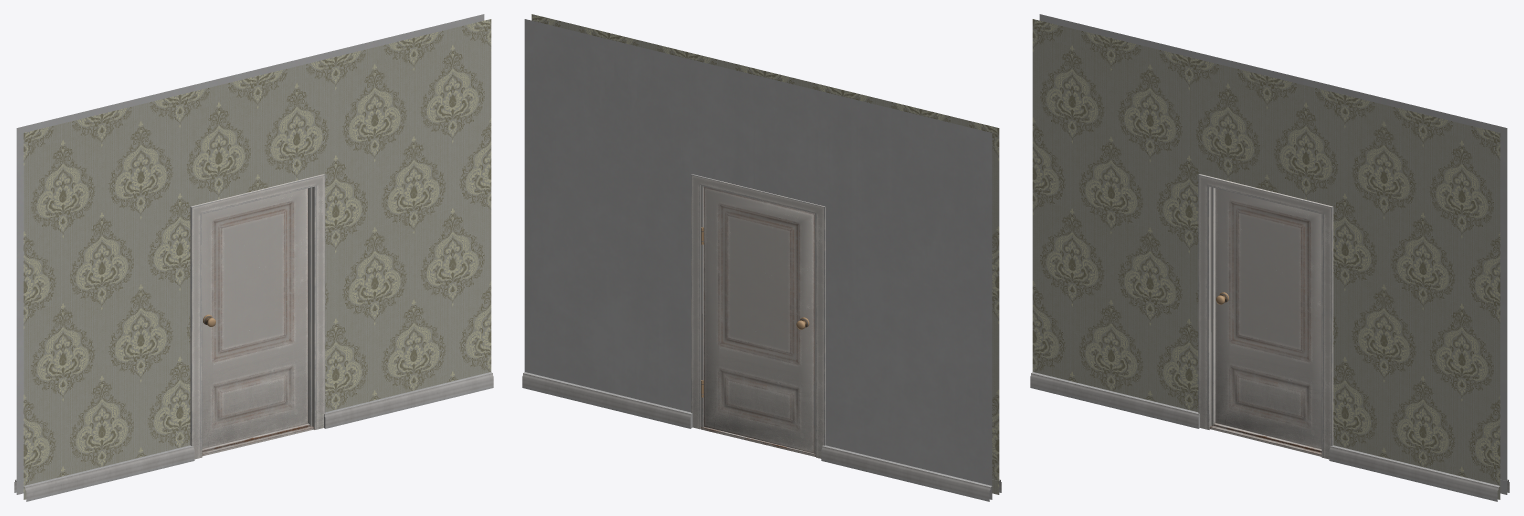
Rendered from Inner_Wall_Door_03.fbx.
The picture shows the model from 3 angles, left to right: view 1: azimuth 30°, elevation 25°; view 2: azimuth 150°, elevation 25°; view 3: azimuth 330°, elevation 25°; orthographic projection.
Parts seen in each view (by area): view 1: Inner_Wall_Door_03_LOD0, Inner_Door_03_LOD0; view 2: Inner_Wall_Door_03_LOD0, Inner_Door_03_LOD0; view 3: Inner_Wall_Door_03_LOD0, Inner_Door_03_LOD0.
Boxes of the visible parts, <box> form: Inner_Wall_Door_03_LOD0: <box>14,14,493,501</box>; Inner_Door_03_LOD0: <box>202,188,307,448</box>; Inner_Wall_Door_03_LOD0: <box>522,14,1001,501</box>; Inner_Door_03_LOD0: <box>703,186,814,453</box>; Inner_Wall_Door_03_LOD0: <box>1030,14,1509,501</box>; Inner_Door_03_LOD0: <box>1215,188,1321,448</box>.
Size of what is drawn, in the model's own units: 400 by 300 by 21.39.
